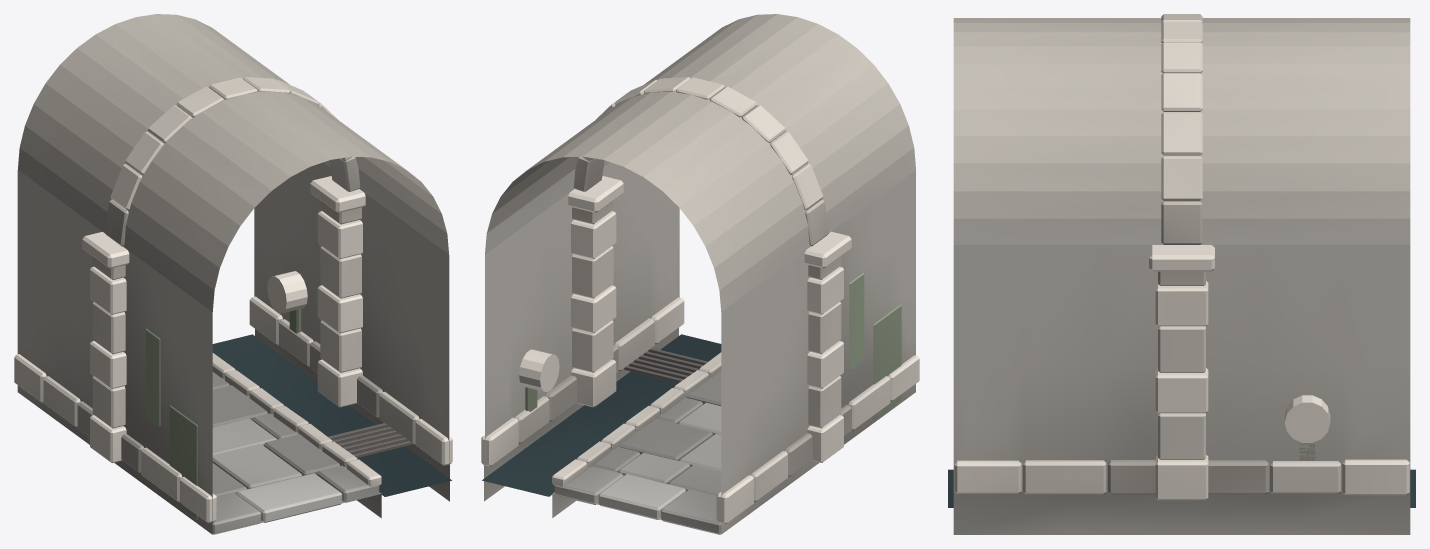
File: dng_hall_sewer.glb
3 views of the same model, side by side, from view 1: azimuth 30°, elevation 25°; view 2: azimuth 150°, elevation 25°; view 3: azimuth 270°, elevation 25° (orthographic). The views are drawn at different scales.
Visible parts, largest first — view 1: curb; view 2: curb; view 3: curb.
Part boxes in pixels (<box>): curb: <box>14,14,452,534</box>; curb: <box>481,14,919,534</box>; curb: <box>948,14,1415,534</box>.
Bounding box in the file's own units: 3.28 × 4.22 × 4.1.
